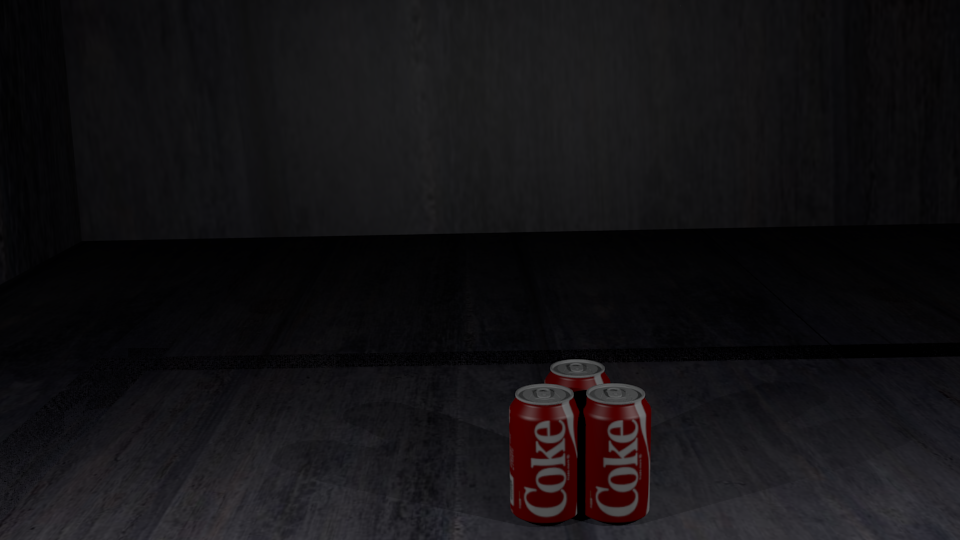cola_can: (509, 384, 579, 519), (580, 384, 650, 518), (545, 360, 609, 486)
